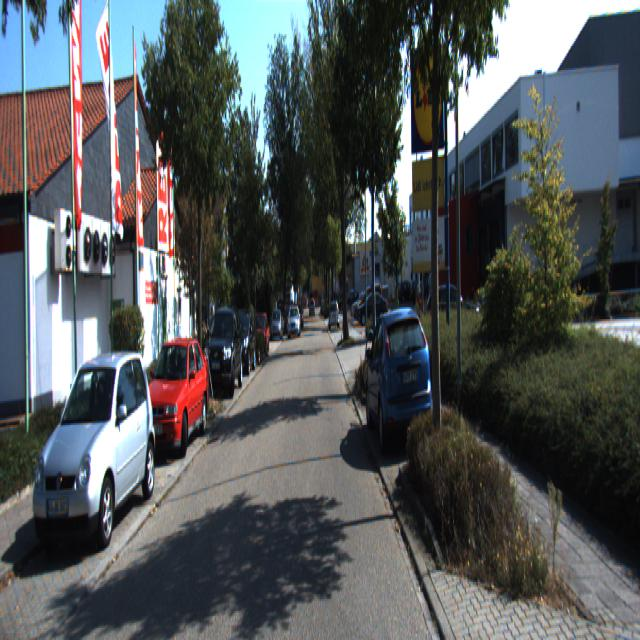Car: (31, 345, 157, 558), (364, 297, 433, 451), (140, 331, 210, 456), (204, 306, 244, 402), (226, 312, 256, 381), (328, 300, 339, 331)
